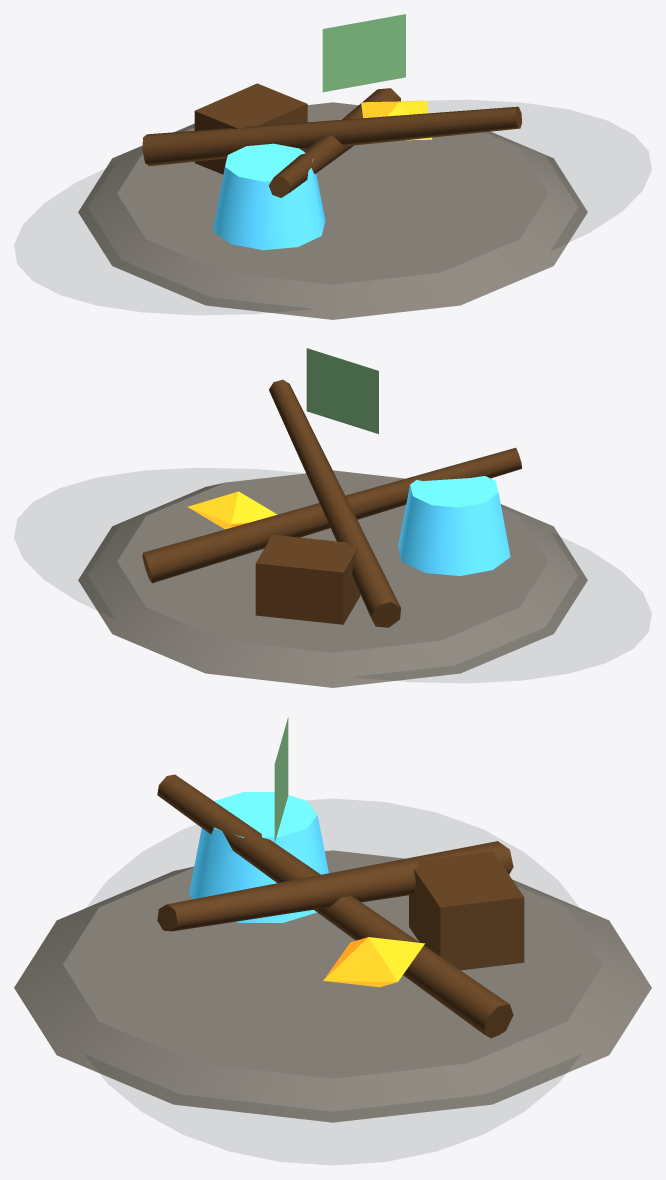
The model's file is disaster_coop_site.glb.
The picture shows the model from 3 angles, top to bottom: view 1: azimuth 30°, elevation 25°; view 2: azimuth 150°, elevation 25°; view 3: azimuth 270°, elevation 25°; orthographic projection. The views are drawn at different scales.
Visible parts, largest first — view 1: disaster_work_pad, soft_ground_shadow, disaster_cross_brace_b, disaster_water_bucket, disaster_signal_cloth, disaster_supplies_crate, disaster_cross_brace_a, disaster_fire_core; view 2: disaster_work_pad, soft_ground_shadow, disaster_water_bucket, disaster_cross_brace_a, disaster_supplies_crate, disaster_cross_brace_b, disaster_signal_cloth, disaster_fire_core; view 3: disaster_work_pad, soft_ground_shadow, disaster_cross_brace_a, disaster_supplies_crate, disaster_cross_brace_b, disaster_water_bucket, disaster_fire_core, disaster_signal_cloth.
Boxes of the visible parts, x1,y1,x2,y2 form: disaster_work_pad: (78, 102, 587, 319); soft_ground_shadow: (15, 100, 651, 314); disaster_cross_brace_b: (142, 106, 522, 166); disaster_water_bucket: (213, 143, 325, 250); disaster_signal_cloth: (322, 14, 405, 92); disaster_supplies_crate: (194, 83, 307, 174); disaster_cross_brace_a: (268, 88, 400, 197); disaster_fire_core: (361, 101, 432, 140); disaster_work_pad: (78, 470, 587, 687); soft_ground_shadow: (15, 468, 651, 682); disaster_water_bucket: (398, 476, 510, 575); disaster_cross_brace_a: (142, 447, 521, 583); disaster_supplies_crate: (255, 534, 360, 624); disaster_cross_brace_b: (269, 379, 400, 627); disaster_signal_cloth: (306, 348, 378, 433); disaster_fire_core: (187, 491, 277, 529); disaster_work_pad: (14, 850, 651, 1122); soft_ground_shadow: (87, 799, 579, 1164); disaster_cross_brace_a: (157, 774, 513, 1038); disaster_supplies_crate: (409, 851, 524, 970); disaster_cross_brace_b: (157, 841, 513, 931); disaster_water_bucket: (189, 792, 328, 922); disaster_fire_core: (323, 937, 424, 987); disaster_signal_cloth: (274, 717, 288, 842).
Size of the model in its own units: 3.38 by 1.09 by 2.48.
